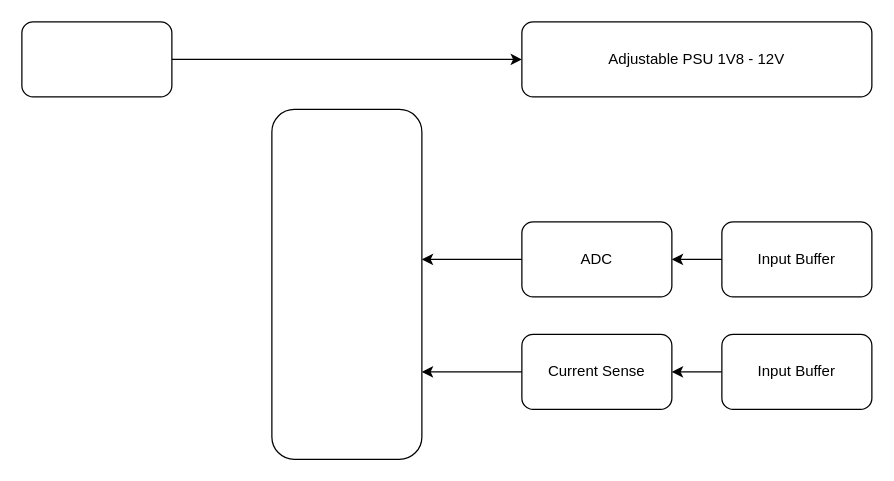
Some shapes in this 894 by 481 pixel diagram are drawn without their labels. Here are the shapes that lost their labels. From the top down, the centre of each, then its label:
point 96,59: USB C PD
point 346,283: NRF
